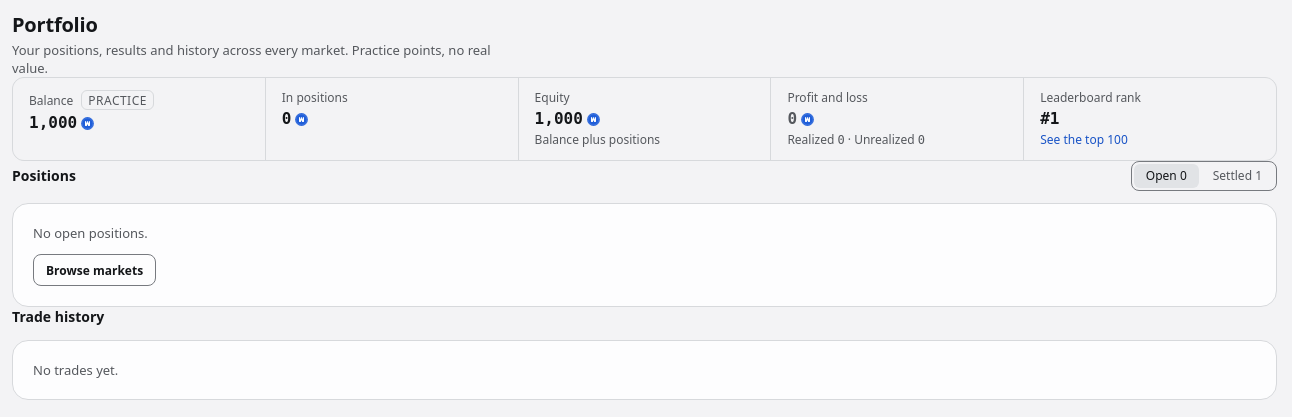
Test case: portfolio: from the api › shows a voided position as refunded
The image size is (1292, 417).
What coordinates should you click on to do the following:
click the radio button labelled "Settled 1"
I would click on:
 (1237, 176)
Its box is [1201,164,1274,188].
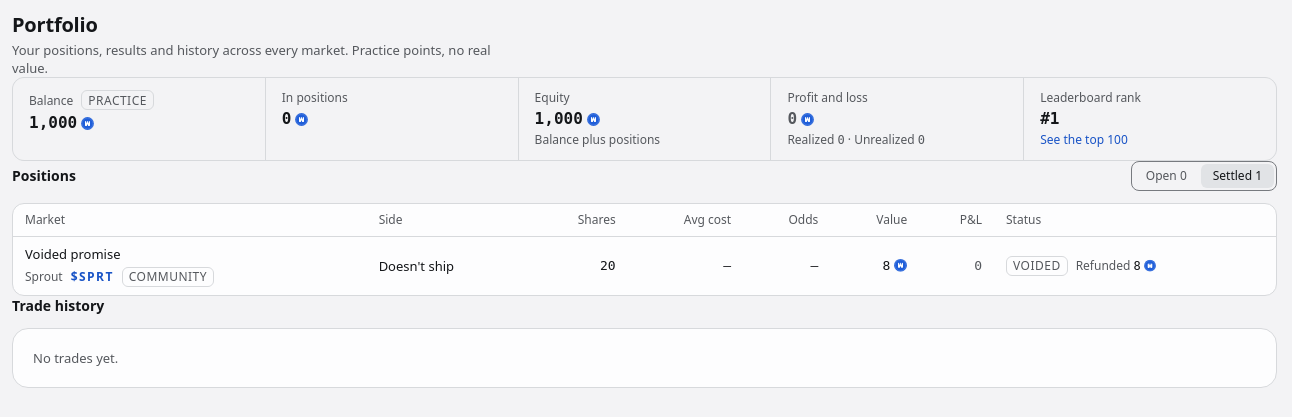
Result: the element showing "Refunded 8" is shown at [1076,258,1156,274]
